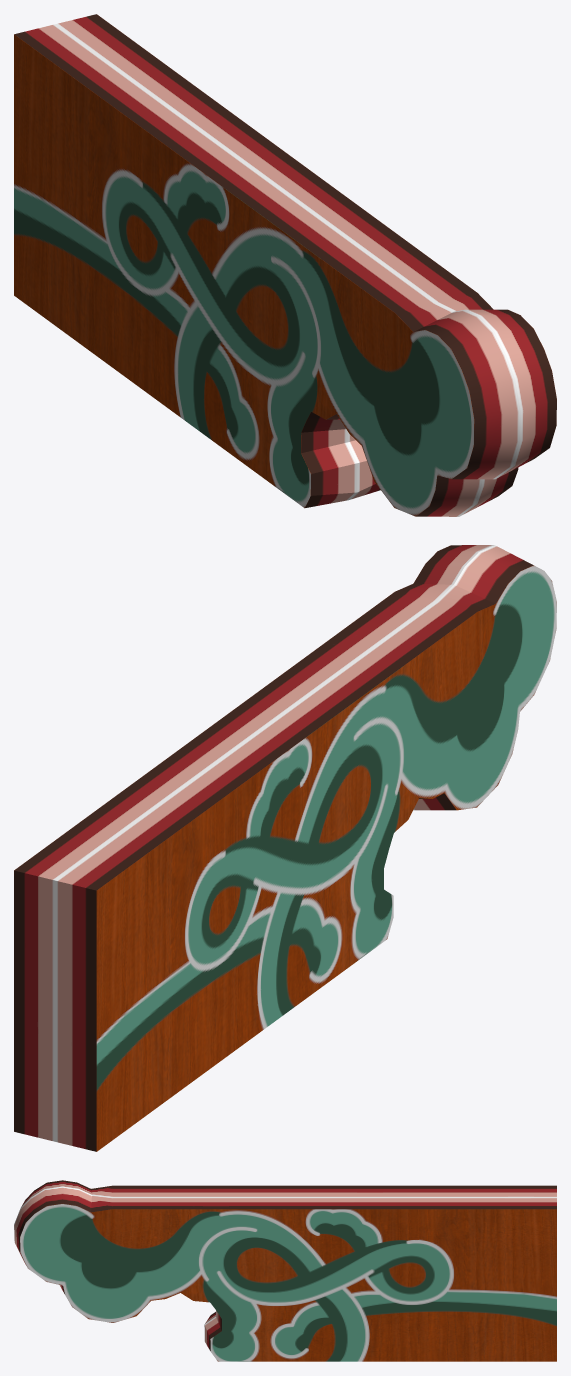
Rendered from SM_Gongpo04F.fbx.
The picture shows the model from 3 angles, top to bottom: view 1: azimuth 30°, elevation 25°; view 2: azimuth 150°, elevation 25°; view 3: azimuth 270°, elevation 25°; orthographic projection. The views are drawn at different scales.
Visible parts, largest first — view 1: SM_Gongpo04F; view 2: SM_Gongpo04F; view 3: SM_Gongpo04F.
Boxes of the visible parts, x1,y1,x2,y2 form: SM_Gongpo04F: [14, 14, 556, 516]; SM_Gongpo04F: [14, 545, 556, 1151]; SM_Gongpo04F: [14, 1180, 556, 1361].
Bounding box in the file's own units: 6.75 × 65.7 × 21.79.
